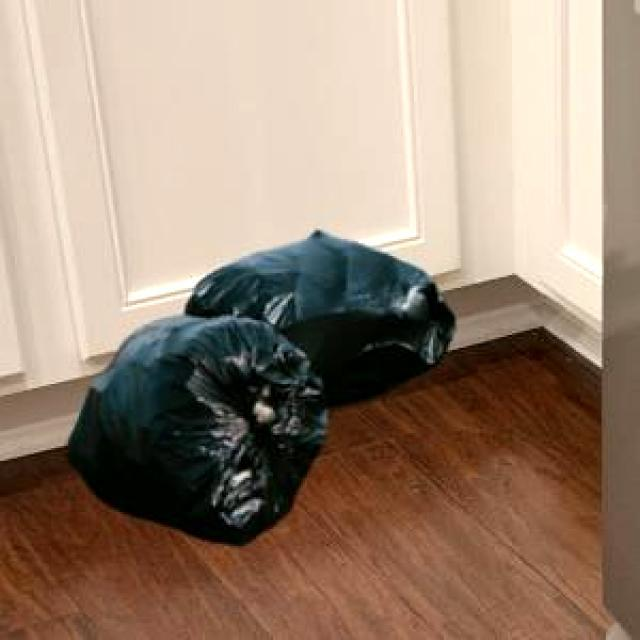Garbage_Bag: (62, 227, 452, 543)
